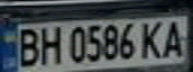0: (63, 22, 84, 64)
5: (84, 22, 106, 63)
6: (118, 20, 139, 61)
8: (103, 21, 121, 62)
A: (160, 17, 190, 59)
B: (12, 25, 42, 69)
H: (36, 24, 63, 66)
K: (136, 18, 169, 60)
